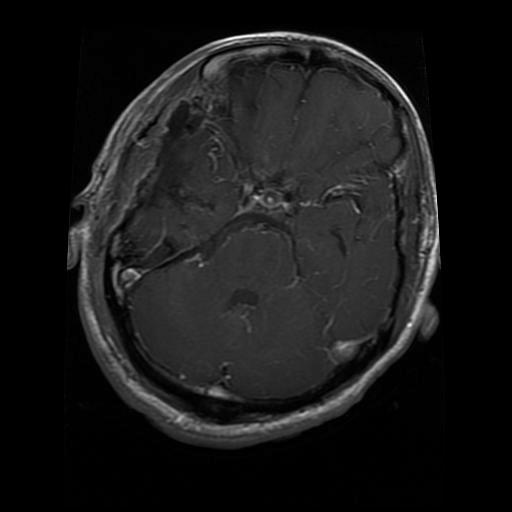Tumour-Glioma: (120, 130, 230, 229)
